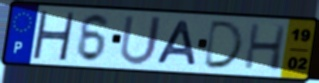6: (76, 12, 111, 64)
A: (155, 19, 199, 67)
D: (201, 19, 246, 71)
H: (30, 9, 77, 62), (242, 22, 288, 72)
U: (117, 14, 165, 68)
